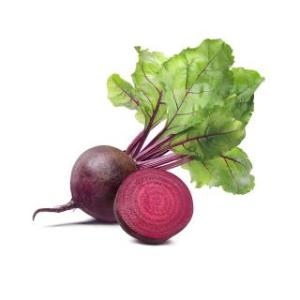beet: (113, 168, 194, 244), (70, 144, 144, 222)
